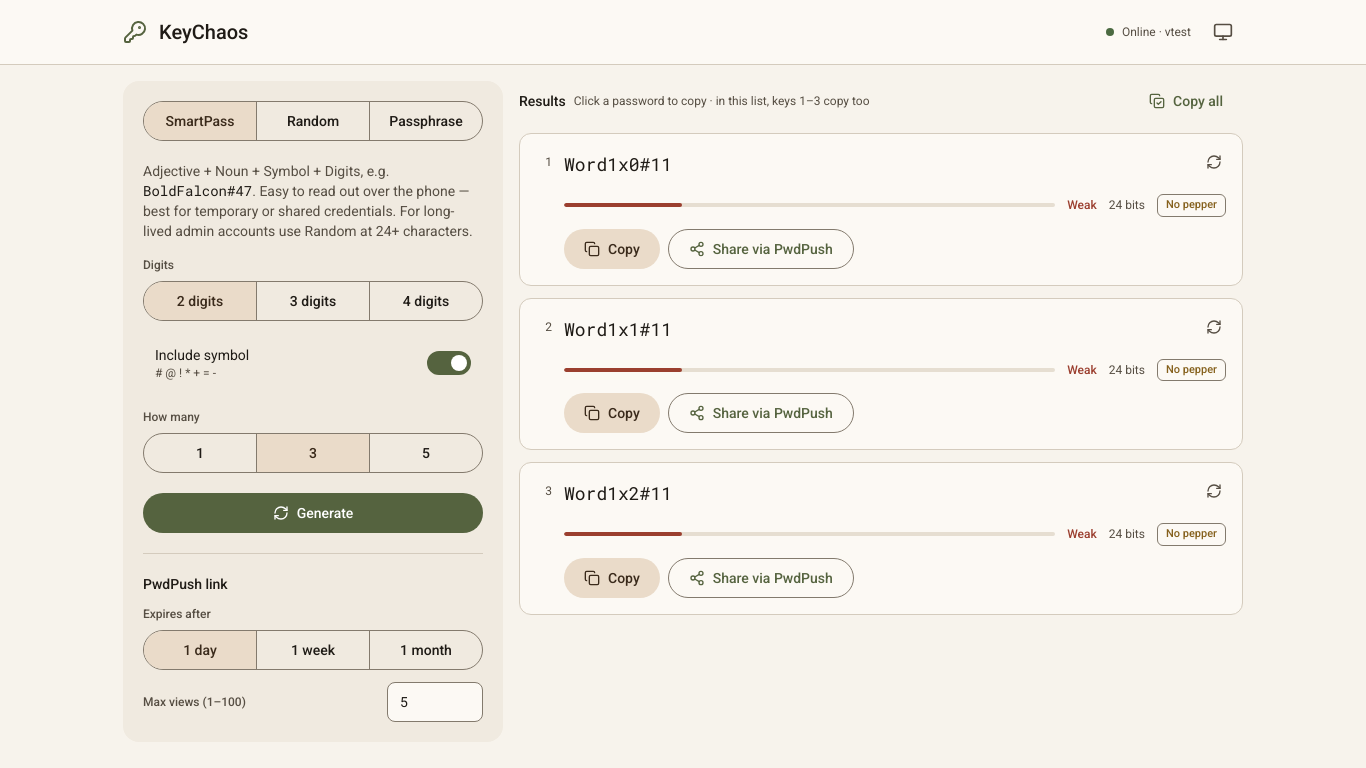
Test case: App — SmartPass regenerate locks the card › disables Share and Regenerate until the new value arrives
Expected: the number of list items is 3, 519,133 -> 1243,286; 519,298 -> 1243,450; 519,462 -> 1243,614
Step 1. Click the button named "Regenerate password 1" → [1214, 162], box 1194,142 -> 1234,182
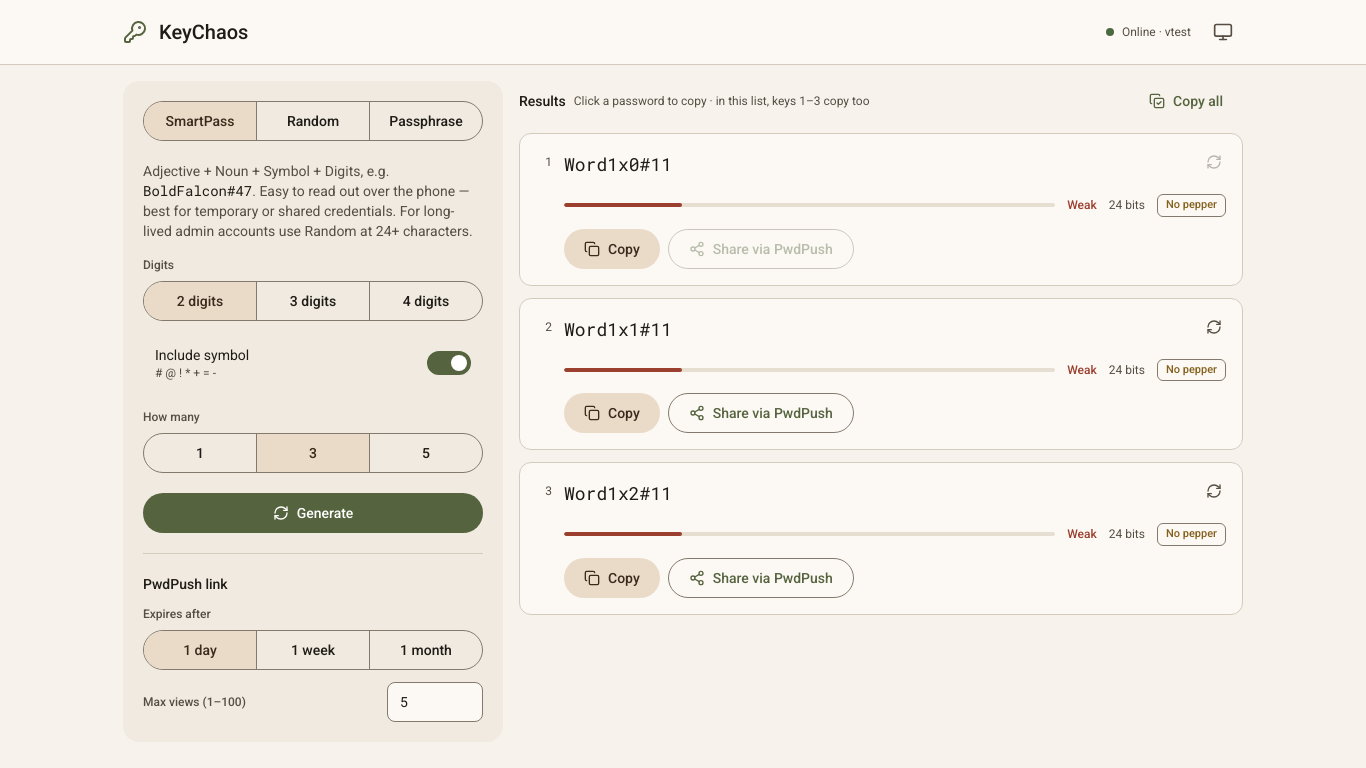
Now the button with aria-label "Share via PwdPush, password 1" is disabled, box 668,228 -> 854,268
Now the button named "Regenerate password 1" is disabled
Step 2. Click the button named "Regenerate password 1" → [1214, 162], box 1194,142 -> 1234,182
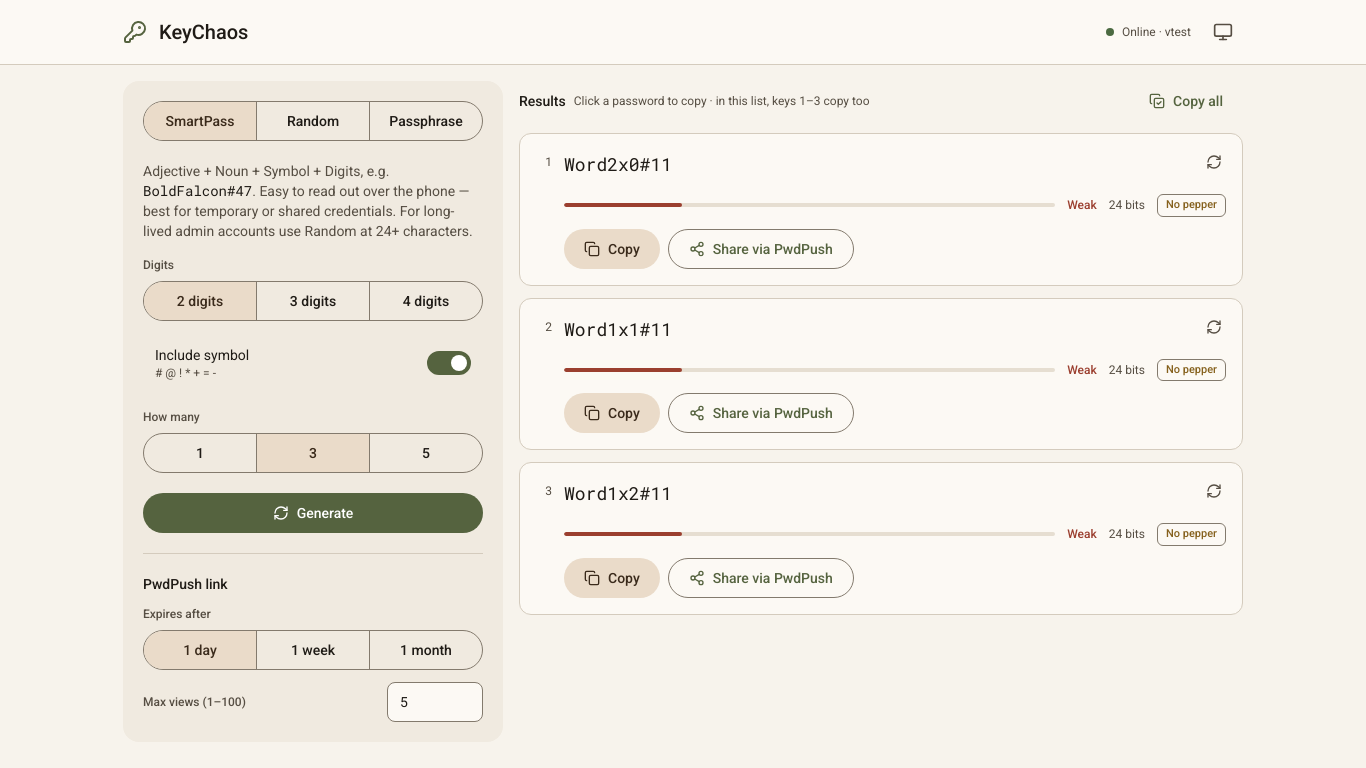
Now the button with aria-label "Share via PwdPush, password 1" is enabled, box 668,228 -> 854,268
